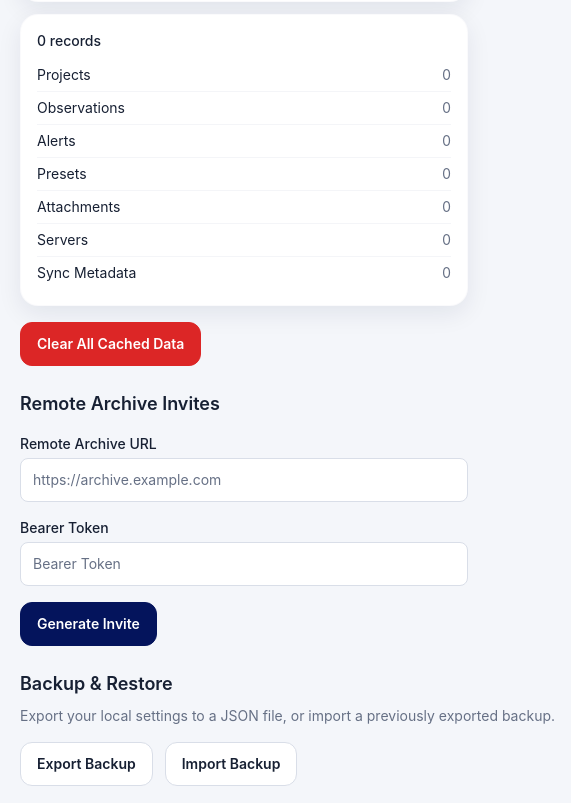
Test: SettingsScreen › Backup & Restore › shows error feedback and logs diagnostics when export fails
(page scrolled)
Click the button "Export Backup": point(86, 764) left=20, top=742, right=153, bottom=786
(page scrolled)
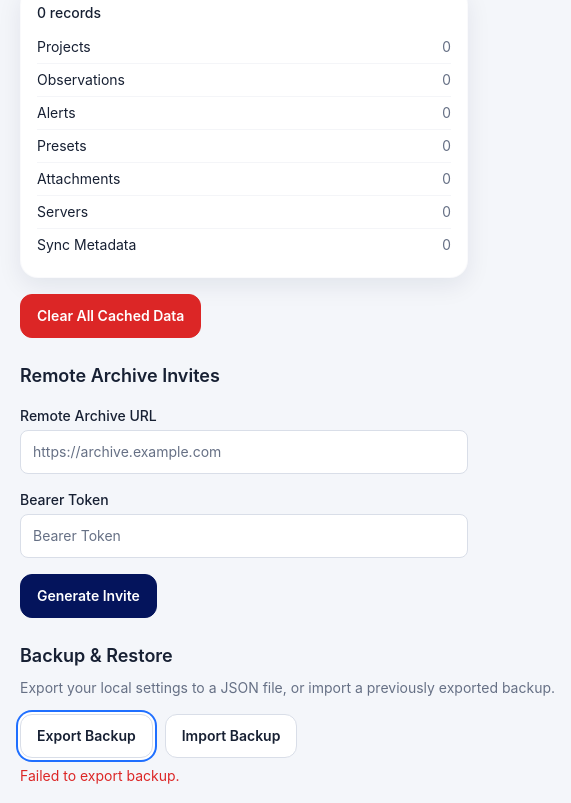
Result: the text "Failed to export backup." is shown at left=20, top=767, right=180, bottom=784
